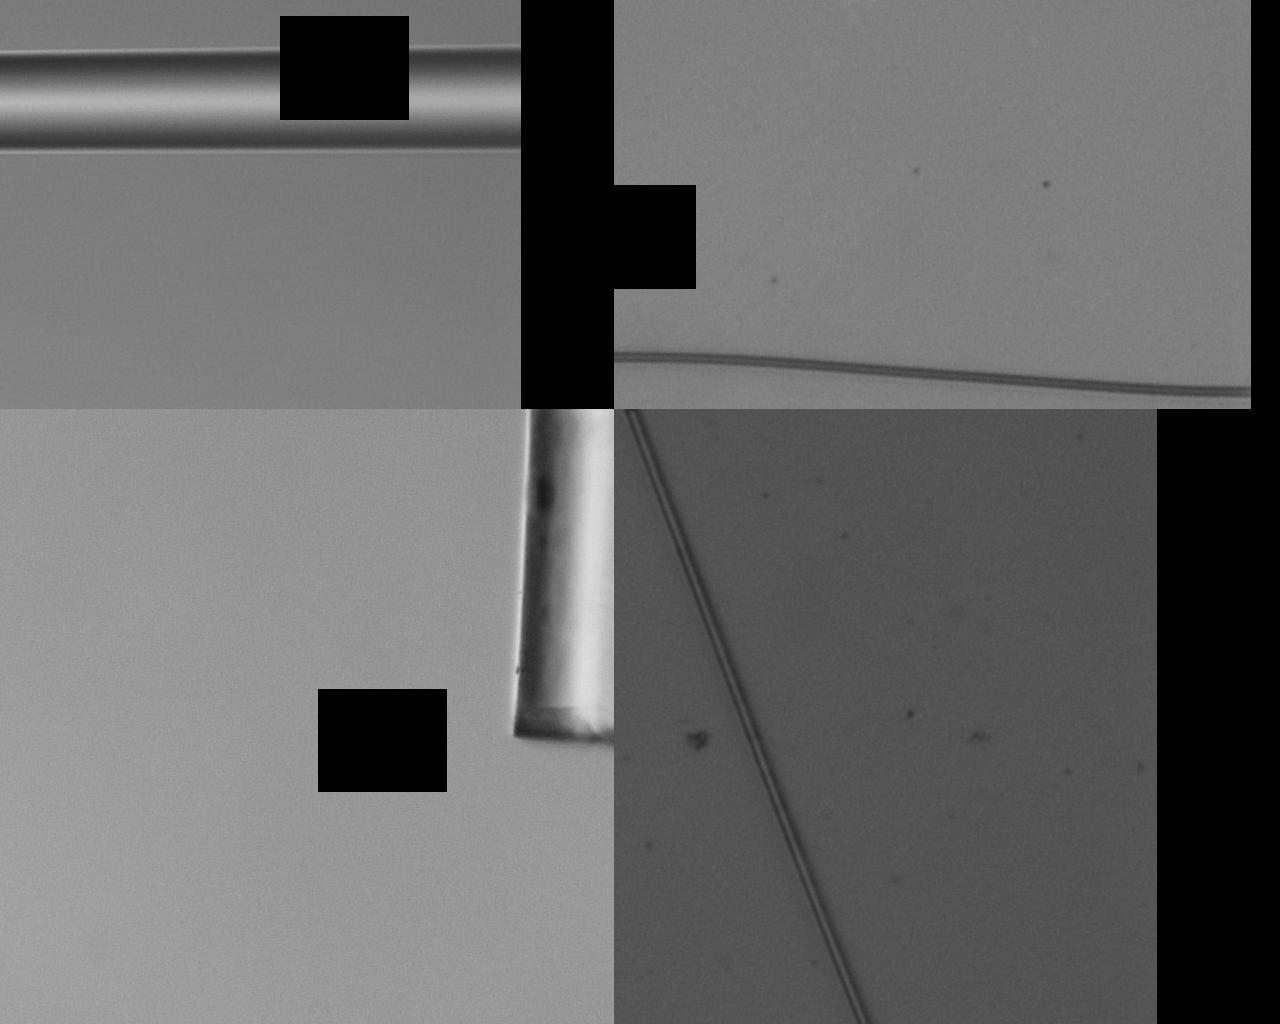fiber: (127, 0, 1151, 641)
